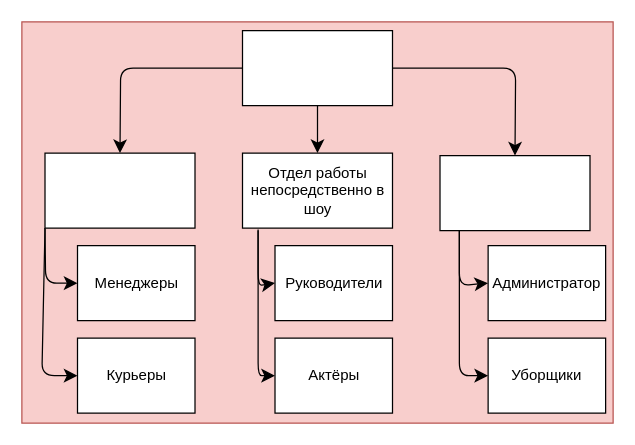
Some shapes in this 635 by 445 pixel diagram are drawn without their labels. The shapes that lost their labels are listed below. From the top down, each one's box as (x1, y1, x2, y2) in pixels, then its label:
(241, 29, 392, 106): Генеральный директор
(44, 152, 195, 228): Отдел администрации
(439, 154, 590, 231): Отдел хранения
